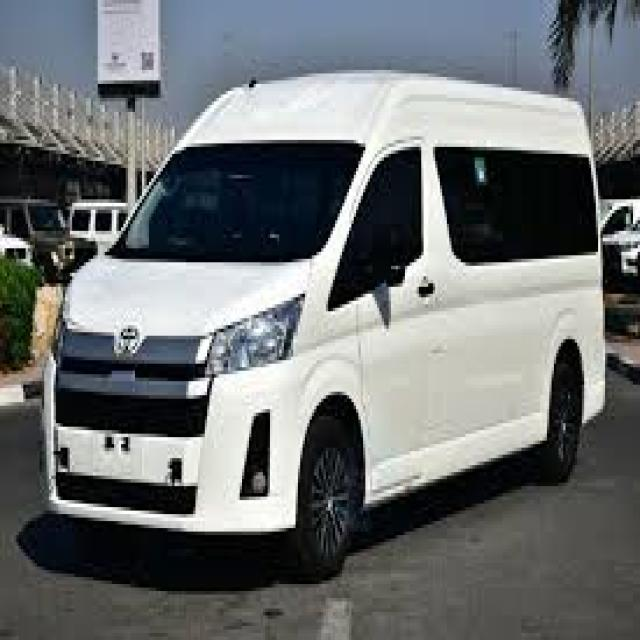car: (43, 71, 604, 580)
